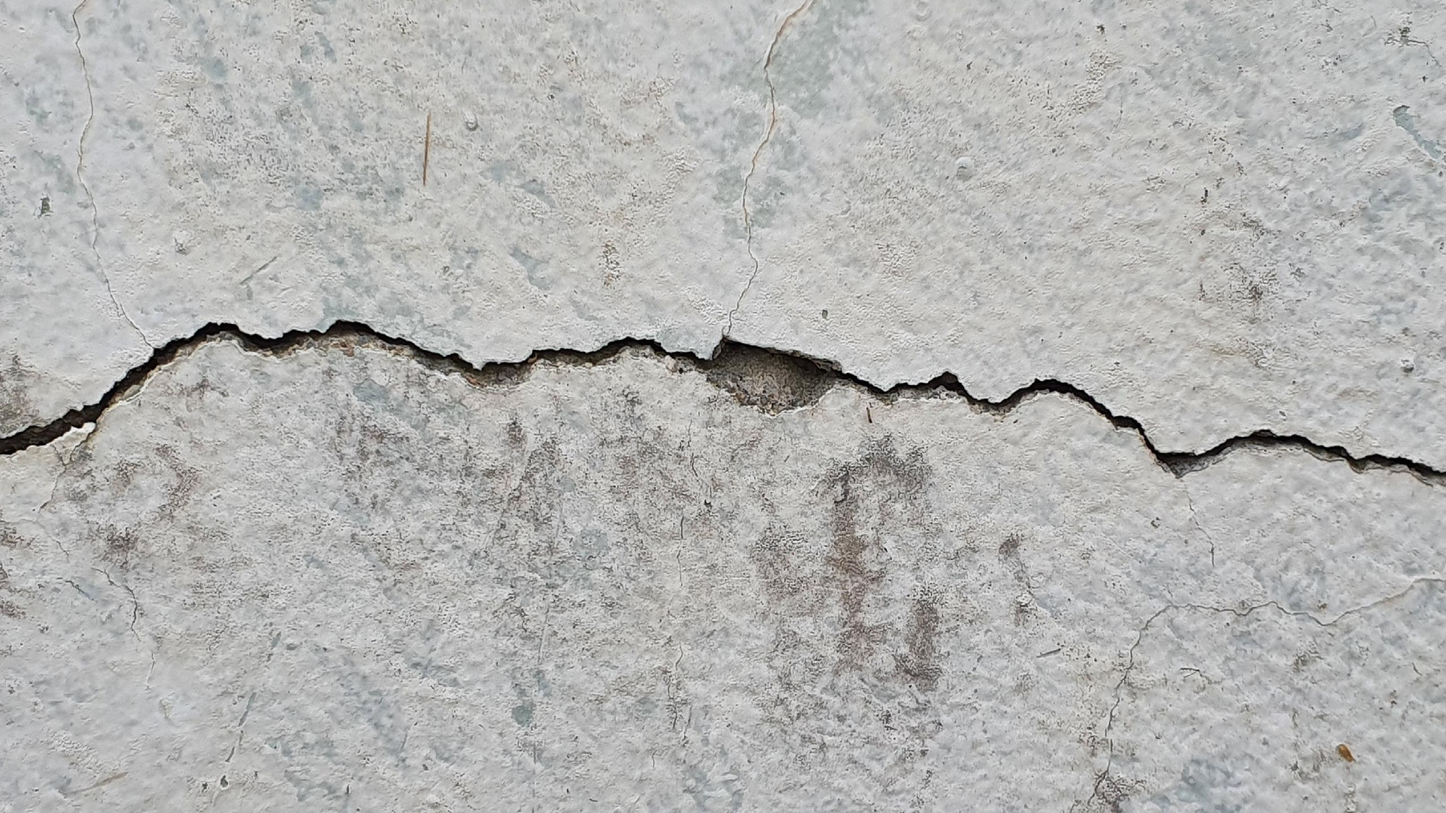crack: (1, 319, 1443, 484)
